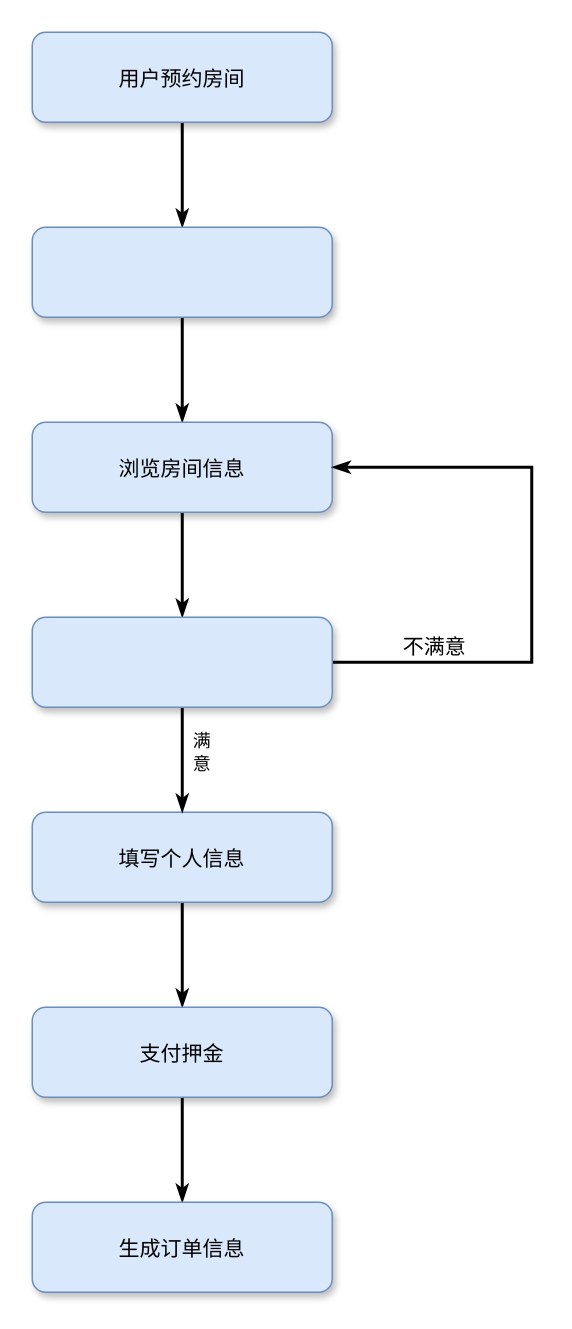
This 572x1329 diagram has some shape labels left out. The shapes that lost their labels are listed below. From the top down, each one's centre as x and y in pixels, then its label:
[183,274]: 打开微信小程序
[183,664]: 查看房间大小 查看房间价格
